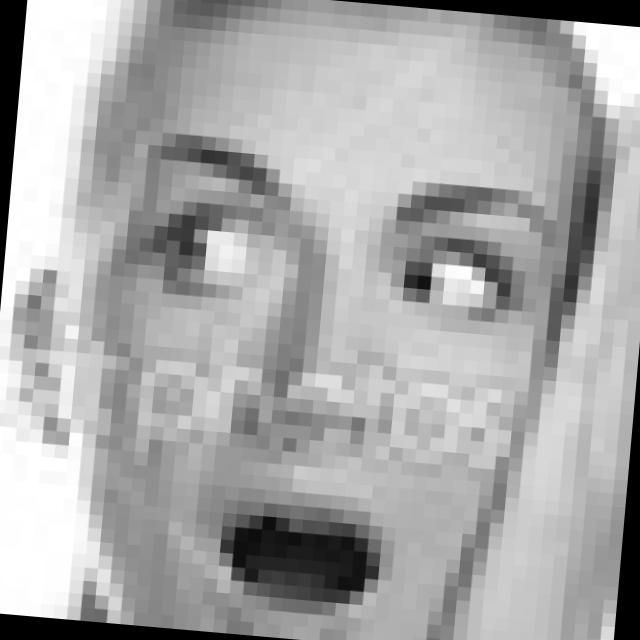surprise: (101, 121, 574, 640)
